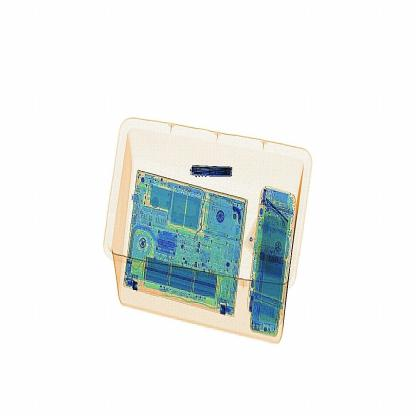scissors: (190, 160, 238, 180)
